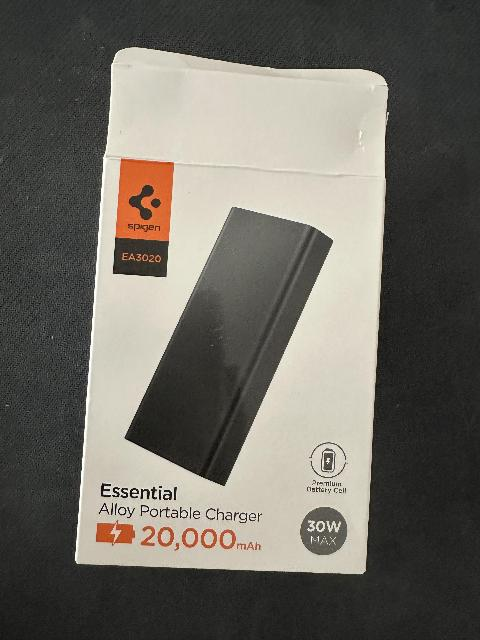Kagit: (73, 33, 386, 570)
